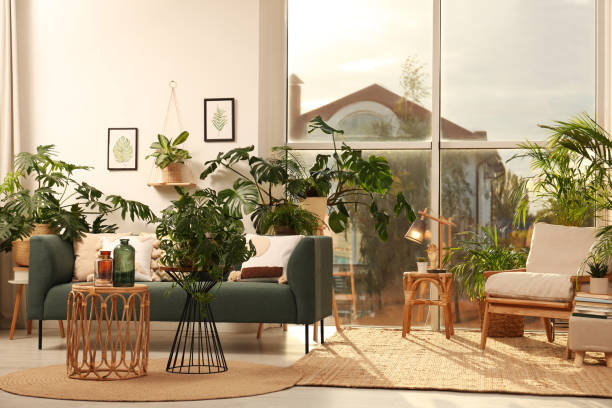chair: (478, 219, 597, 349)
large plant: (203, 129, 413, 235)
side table: (154, 264, 235, 375), (63, 281, 151, 382), (399, 270, 457, 340)
small plant: (0, 141, 156, 266), (147, 130, 193, 182), (584, 255, 612, 298)
sofa: (26, 232, 334, 354)
table lamp: (402, 209, 454, 274)
wall art: (106, 124, 140, 172), (203, 94, 236, 143)
